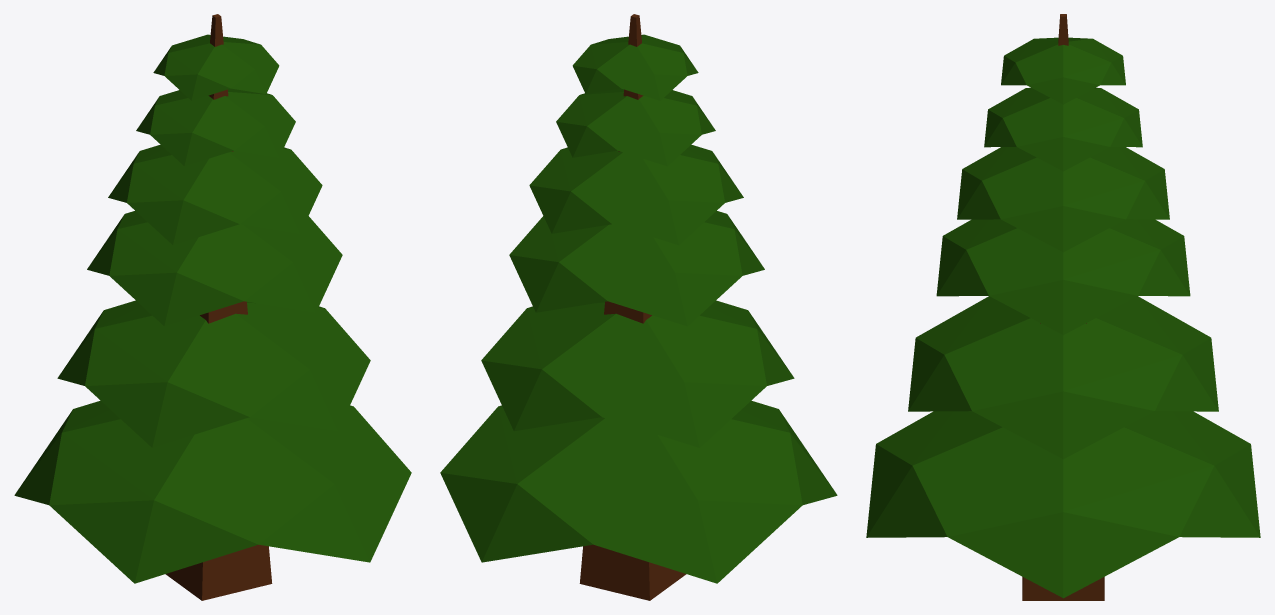
File: PineTree.fbx
3 renders of one model, left to right at view 1: azimuth 30°, elevation 25°; view 2: azimuth 150°, elevation 25°; view 3: azimuth 270°, elevation 25°, orthographic.
Visible parts, largest first — view 1: PineSymetric; view 2: PineSymetric; view 3: PineSymetric.
Boxes of the visible parts, left/top/right/bottom form: PineSymetric: left=14, top=14, right=411, bottom=600; PineSymetric: left=440, top=14, right=837, bottom=600; PineSymetric: left=866, top=14, right=1260, bottom=600.
Bounding box in the file's own units: 108 × 167 × 105.
